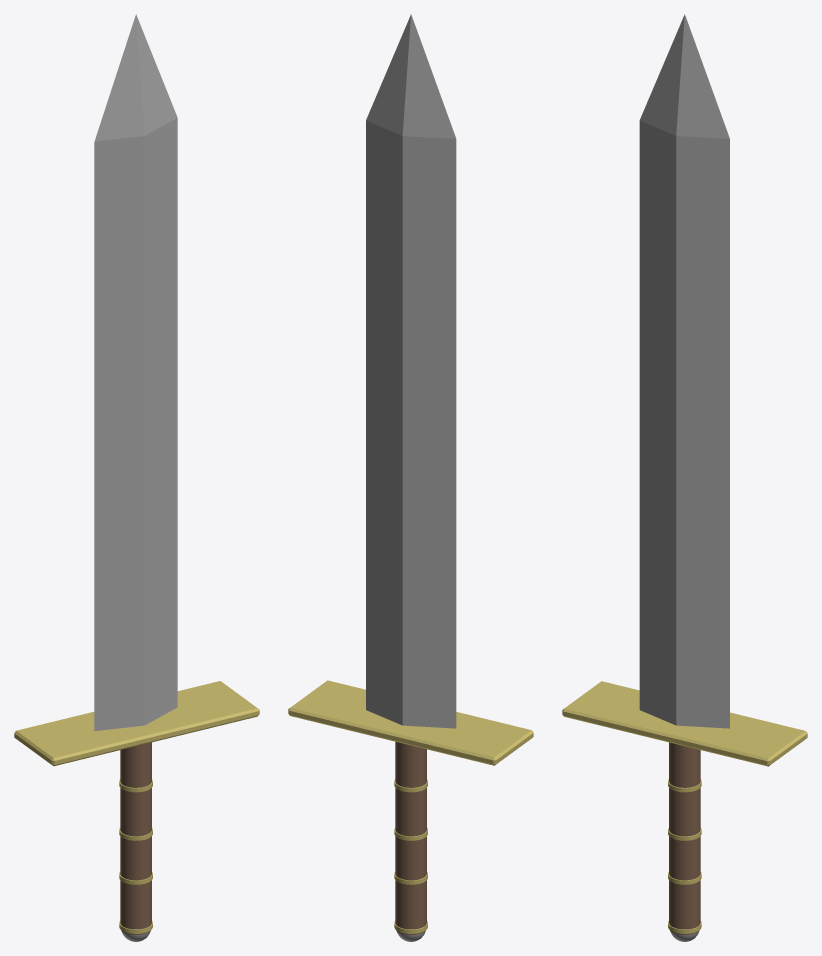
File: Steel_of_Justice.fbx
3 renders of one model, left to right at view 1: azimuth 30°, elevation 25°; view 2: azimuth 150°, elevation 25°; view 3: azimuth 330°, elevation 25°, orthographic.
Visible parts, largest first — view 1: pCylinder8; view 2: pCylinder8; view 3: pCylinder8.
Boxes of the visible parts, x1=… form: pCylinder8: x1=14, y1=14, x2=259, y2=941; pCylinder8: x1=288, y1=14, x2=533, y2=941; pCylinder8: x1=562, y1=14, x2=807, y2=941.
Bounding box in the file's own units: 6.55 × 27.87 × 2.16.
